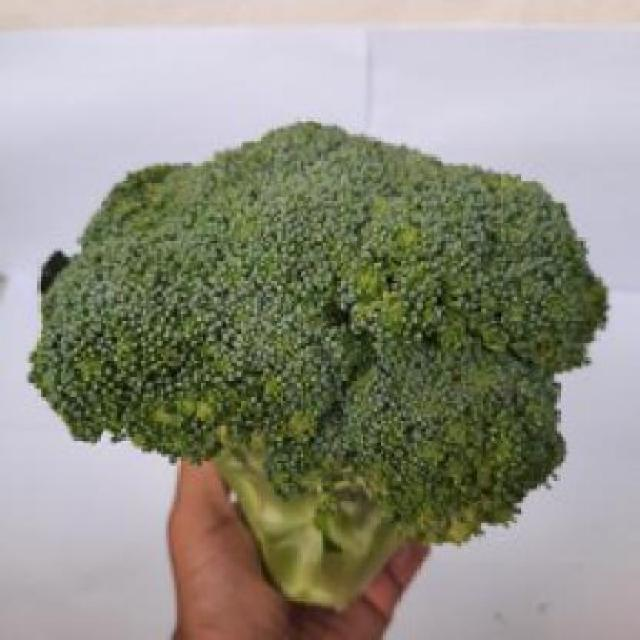broccoli: (34, 157, 612, 603)
